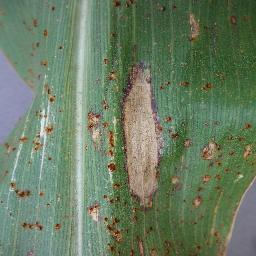Corn_Blight: (103, 58, 175, 218), (182, 119, 254, 256), (12, 5, 59, 168), (91, 222, 174, 256), (74, 96, 106, 155), (95, 28, 143, 55), (6, 176, 53, 201), (95, 0, 168, 16), (177, 7, 204, 48), (178, 77, 226, 98), (10, 220, 63, 236), (75, 201, 105, 216), (220, 13, 242, 30)
